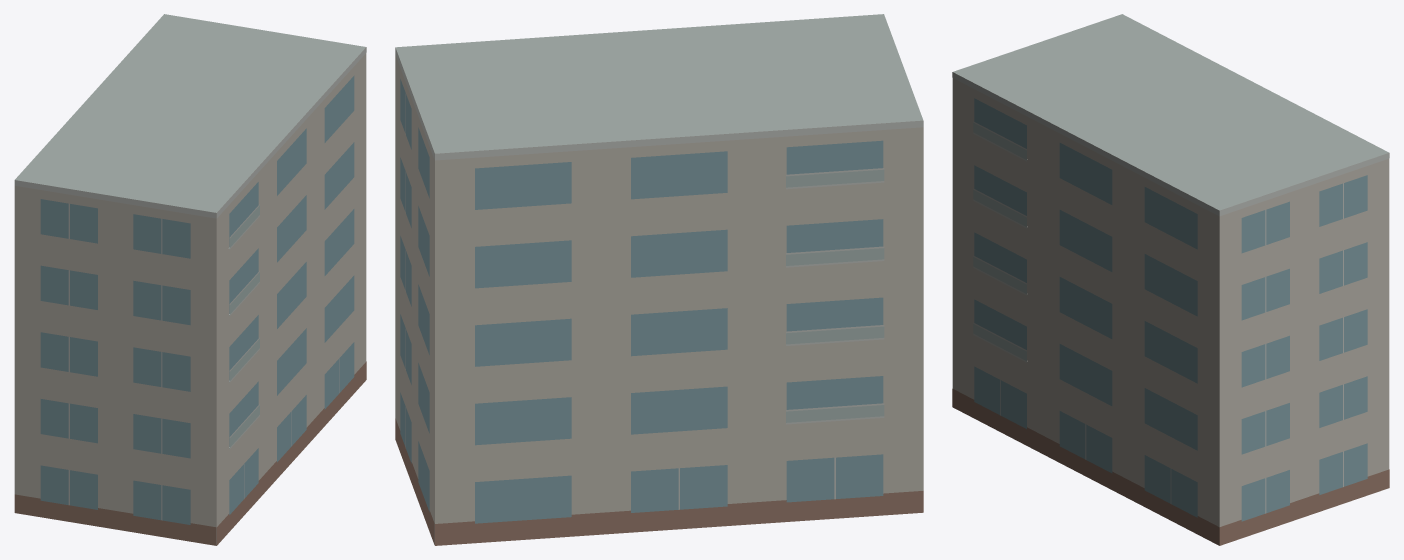
File: survey-upis-32729177.glb
3 views of the same model, side by side, from view 1: azimuth 30°, elevation 25°; view 2: azimuth 150°, elevation 25°; view 3: azimuth 270°, elevation 25° (orthographic). The views are drawn at different scales.
Parts seen in each view (by area): view 1: survey-upis-32729177.tmp; view 2: survey-upis-32729177.tmp; view 3: survey-upis-32729177.tmp.
Part boxes in pixels (x1,y1,x2,y2): survey-upis-32729177.tmp: [14, 14, 366, 545]; survey-upis-32729177.tmp: [395, 14, 923, 545]; survey-upis-32729177.tmp: [952, 14, 1389, 545].
Size of the model in its own units: 17.87 by 14.2 by 16.78.
